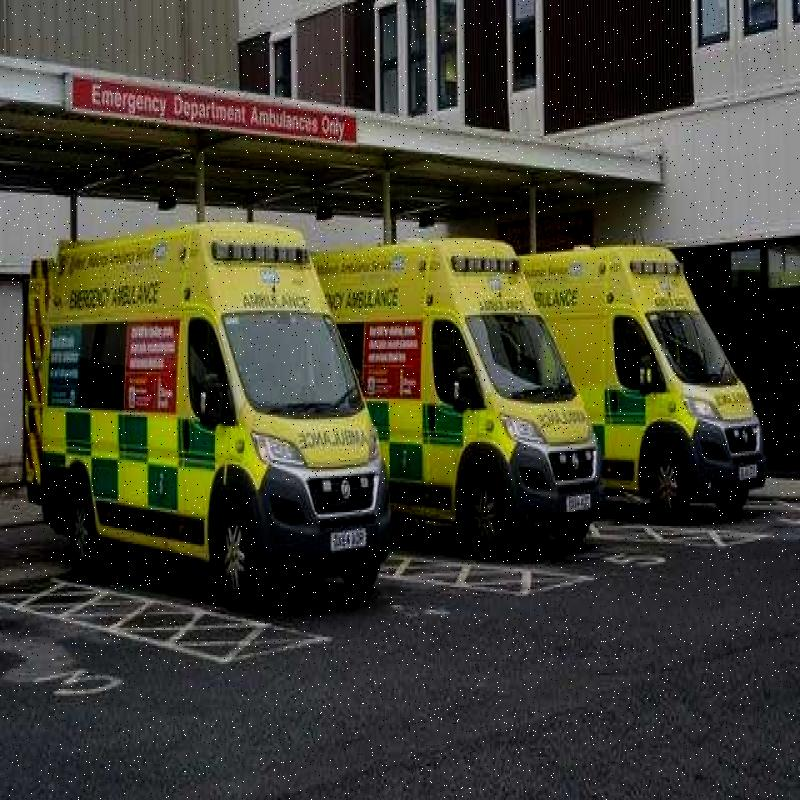AmbulanceSiren: (206, 227, 316, 267), (440, 243, 526, 290), (627, 250, 684, 288)
